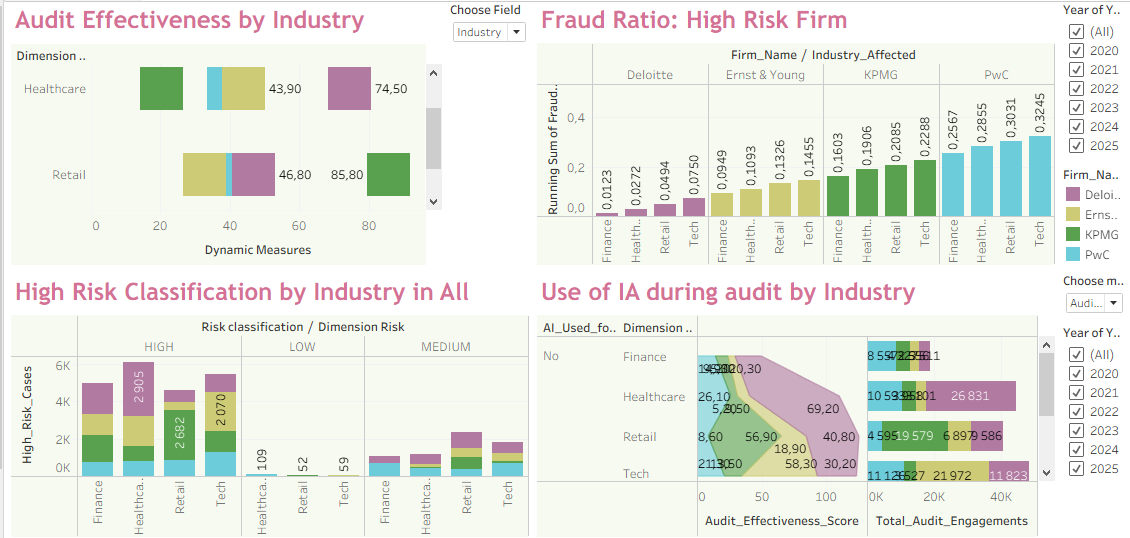

The dashboard page shown, as its layout file describes it:
{"tool":"tableau","page":{"name":"Dashboard 1","canvas":[1000,1000],"units":"permille","ordinal":0},"visuals":[{"type":"worksheet","title":"Values by Firm and Industry","mark":"Square","rows":["Calculation_1108643274293262"],"cols":["Calculation_1108643303030799"],"box":[6.8,14.3,386.1,485.1]},{"type":"parameter","param":"[Parameters].[Parameter 1]","box":[392.9,14.3,76.9,485.1]},{"type":"worksheet","title":"Fraud Ratio: High Risk Firms","mark":"Automatic","rows":["Calculation_1108643419570192"],"cols":["Firm_Name","Industry_Affected"],"box":[469.8,14.3,463.2,485.1]},{"type":"filter","title":"Values by Firm and Industry","param":"[federated.1h3x0um1n8vku91dqw9o507lgkdi].[yr:Year:ok]","box":[933,14.3,60.2,294.7]},{"type":"legend","title":"Values by Firm and Industry","param":"[federated.1h3x0um1n8vku91dqw9o507lgkdi].[none:Firm_Name:nk]","box":[933,308.9,60.2,189.3]},{"type":"parameter","param":"[Parameters].[Parameter 2]","box":[933,498.2,60.2,92.9]},{"type":"worksheet","title":"High Risk Classification","mark":"Bar","rows":["High_Risk_Cases"],"cols":["Calculation_1108643254685702","Calculation_1108643274293262"],"box":[6.8,499.4,463,486.3]},{"type":"worksheet","title":"Use of IA during audit","mark":"Circle","rows":["AI_Used_for_Auditing","Calculation_1108643274293262"],"cols":["Audit_Effectiveness_Score","Total_Audit_Engagements"],"box":[469.8,499.4,463.2,486.3]},{"type":"filter","title":"High Risk Classification","param":"[federated.1h3x0um1n8vku91dqw9o507lgkdi].[yr:Year:ok]","box":[933,591.1,60.2,294.7]}]}

Visuals, with their boxes on the dashboard's canvas, which has no fixed pixel size, in thousandths of its width and height (x1, y1, x2, y2). These are canvas units, not pixel positions in the 1130x538 screenshot, which may show the page scaled, cropped or inside an application window:
"Values by Firm and Industry" worksheet (Square marks): [7, 14, 393, 499]
parameter: [393, 14, 470, 499]
"Fraud Ratio: High Risk Firms" worksheet: [470, 14, 933, 499]
"Values by Firm and Industry" filter: [933, 14, 993, 309]
"Values by Firm and Industry" legend: [933, 309, 993, 498]
parameter: [933, 498, 993, 591]
"High Risk Classification" worksheet (Bar marks): [7, 499, 470, 986]
"Use of IA during audit" worksheet (Circle marks): [470, 499, 933, 986]
"High Risk Classification" filter: [933, 591, 993, 886]
